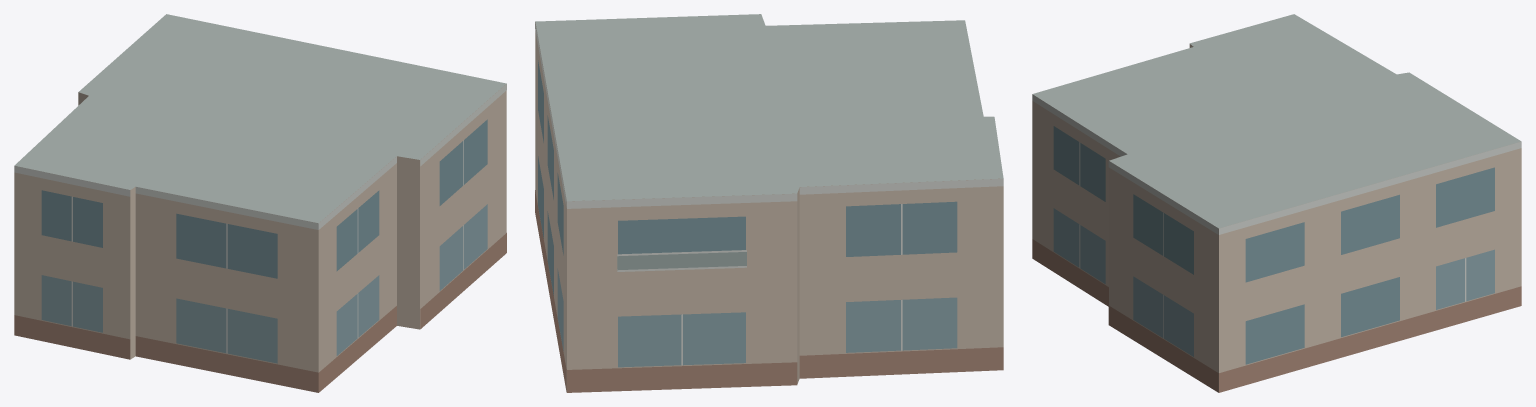
File: survey-upis-32925654.glb
3 views of the same model, side by side, from view 1: azimuth 30°, elevation 25°; view 2: azimuth 150°, elevation 25°; view 3: azimuth 270°, elevation 25° (orthographic). The views are drawn at different scales.
Parts seen in each view (by area): view 1: survey-upis-32925654.tmp; view 2: survey-upis-32925654.tmp; view 3: survey-upis-32925654.tmp.
Part boxes in pixels (<box>): survey-upis-32925654.tmp: <box>14,14,506,392</box>; survey-upis-32925654.tmp: <box>535,14,1003,392</box>; survey-upis-32925654.tmp: <box>1032,14,1521,392</box>.
Bounding box in the file's own units: 17.08 × 6.1 × 16.47.
